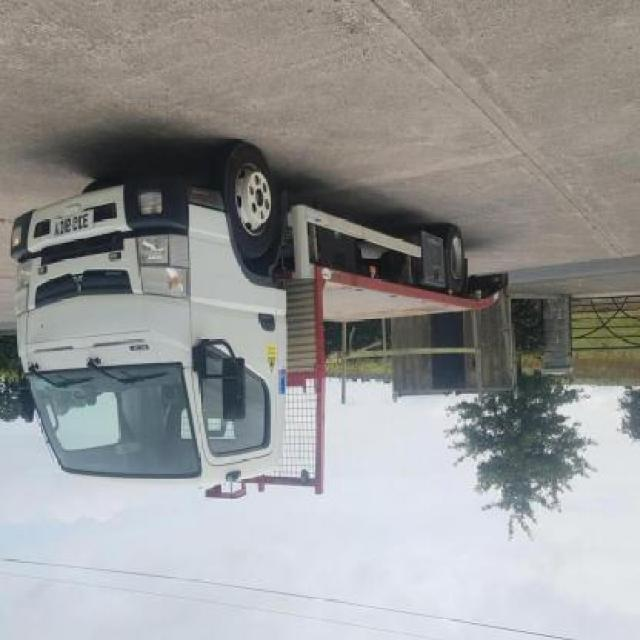truck: (13, 149, 509, 503)
